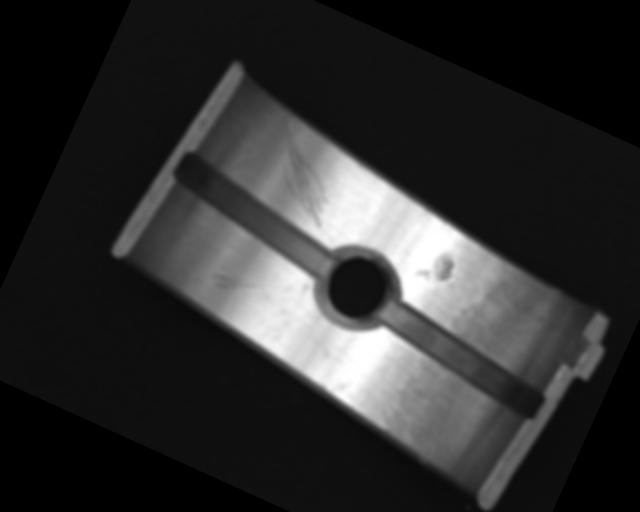bruise: (415, 245, 460, 290)
gap: (159, 150, 350, 280), (367, 301, 554, 422)
hole: (305, 234, 410, 342)
nick: (252, 121, 354, 230), (207, 264, 269, 308)
